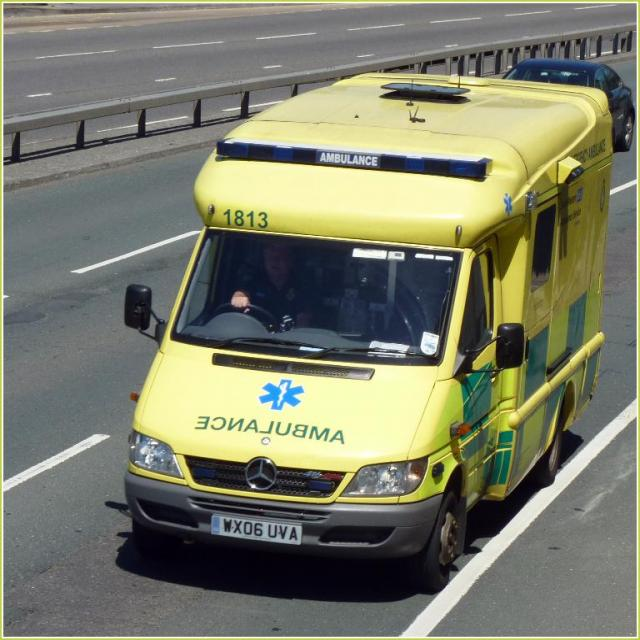Ambulance: (123, 72, 616, 586)
